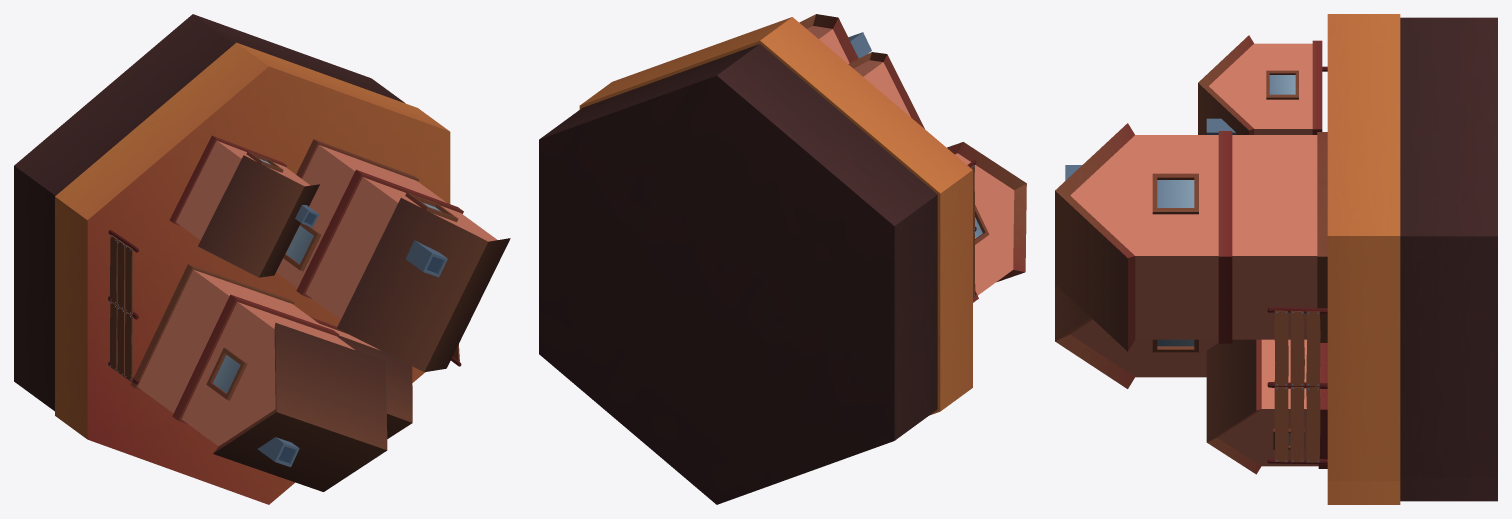
The model's file is DORF_B_EX.fbx.
3 views of the same model, side by side, from view 1: azimuth 30°, elevation 25°; view 2: azimuth 150°, elevation 25°; view 3: azimuth 270°, elevation 25° (orthographic). The views are drawn at different scales.
Parts seen in each view (by area): view 1: DORF_B_EX; view 2: DORF_B_EX; view 3: DORF_B_EX.
Boxes of the visible parts, x1,y1,x2,y2 form: DORF_B_EX: (14,14,510,504); DORF_B_EX: (539,14,1026,504); DORF_B_EX: (1055,14,1497,504).
Size of the model in its own units: 172 by 199 by 163.
